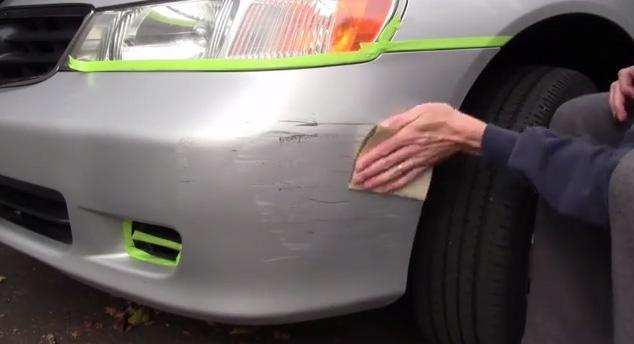front-bumper-dent: (7, 67, 475, 318)
